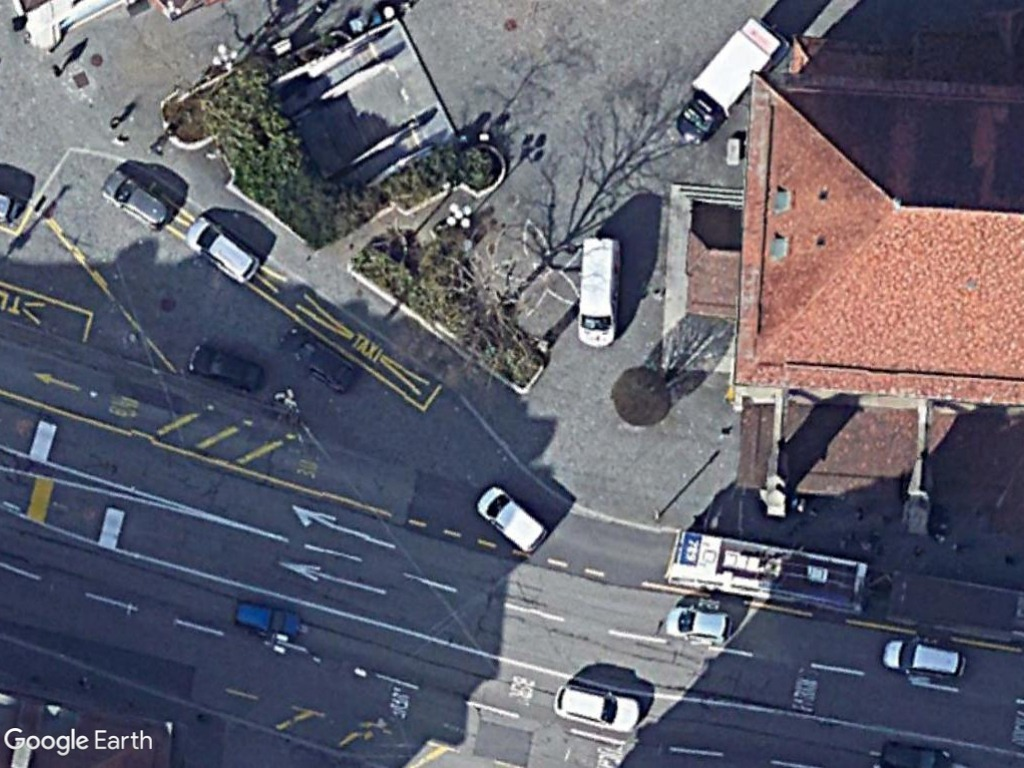bus: (663, 532, 873, 618)
car: (180, 216, 263, 284), (548, 681, 644, 735), (98, 168, 173, 235), (187, 341, 267, 395), (881, 637, 969, 684), (229, 598, 306, 642), (661, 603, 736, 646)
truck: (673, 18, 790, 149)
van: (573, 233, 623, 352), (471, 483, 550, 554)
